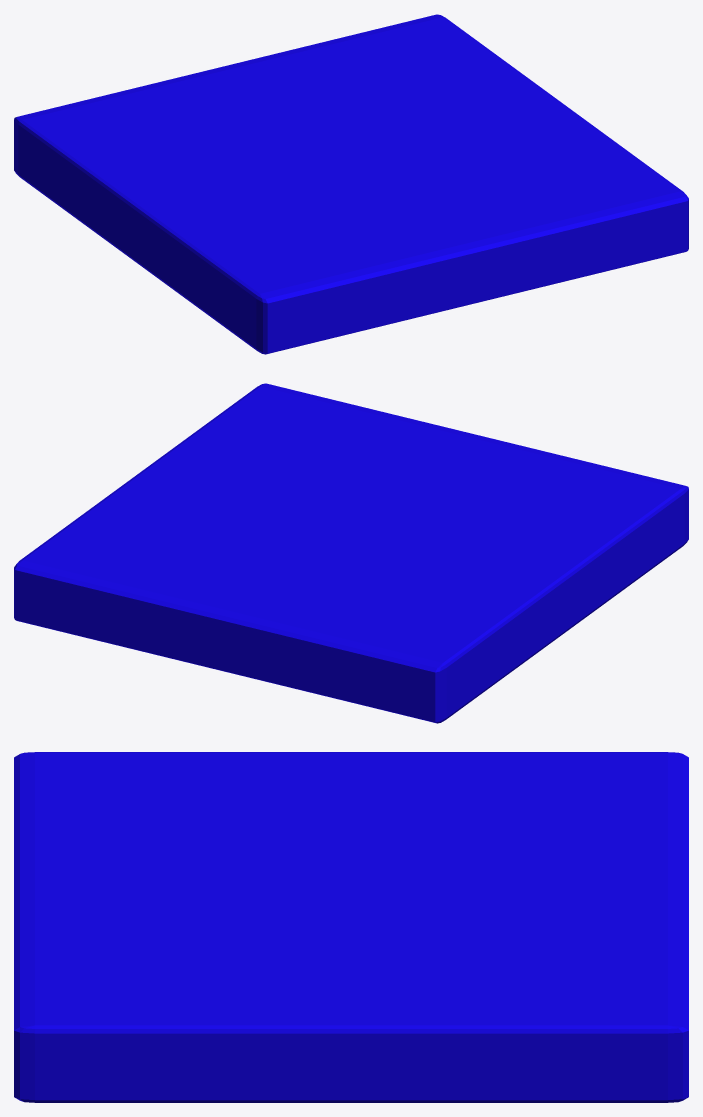
File: building_base.FBX
The picture shows the model from 3 angles, top to bottom: view 1: azimuth 30°, elevation 25°; view 2: azimuth 150°, elevation 25°; view 3: azimuth 270°, elevation 25°; orthographic projection. The views are drawn at different scales.
Visible parts, largest first — view 1: building_base; view 2: building_base; view 3: building_base.
Part boxes in pixels (x1,y1,x2,y2): building_base: (14,14,688,354); building_base: (14,383,688,723); building_base: (14,752,688,1102).
Size of the model in its own units: 44551 by 5619 by 45639.
